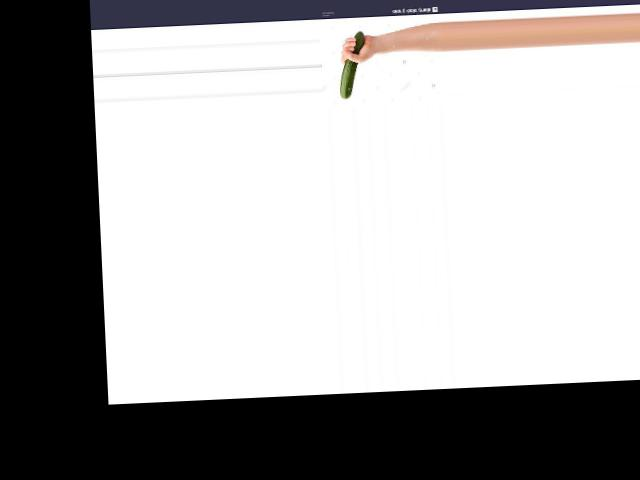cucumber: (336, 31, 365, 98)
